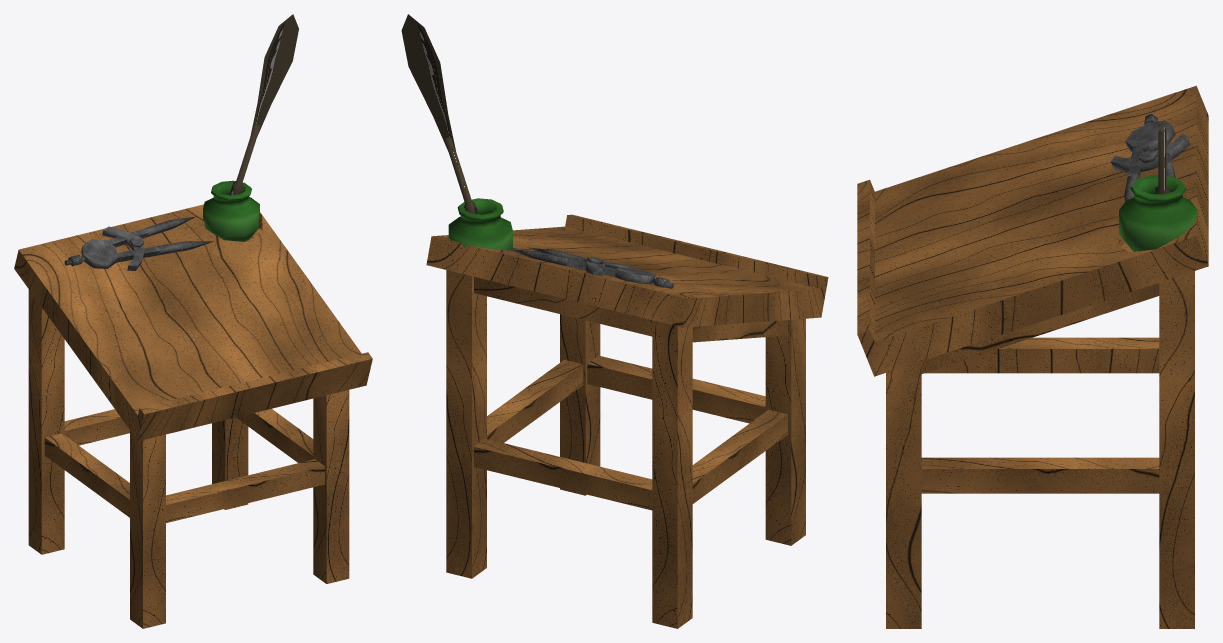
File: Mesh_Interaction_Table.fbx
3 views of the same model, side by side, from view 1: azimuth 30°, elevation 25°; view 2: azimuth 150°, elevation 25°; view 3: azimuth 270°, elevation 25° (orthographic). The views are drawn at different scales.
Visible parts, largest first — view 1: Interaction_Table; view 2: Interaction_Table; view 3: Interaction_Table.
Part boxes in pixels (box(x1,y1,x2,y2)): Interaction_Table: box(14, 14, 372, 628); Interaction_Table: box(401, 14, 828, 628); Interaction_Table: box(857, 85, 1208, 628).
Size of the model in its own units: 87.93 by 150 by 74.07.
